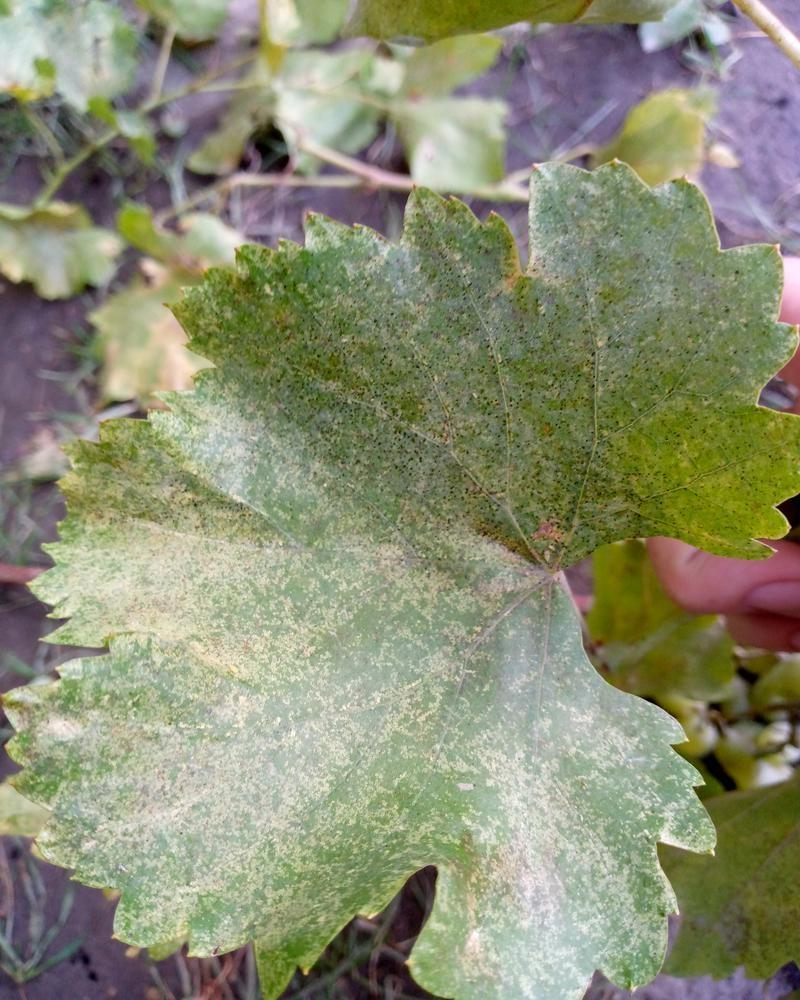Powdery-Mildew: (468, 709, 652, 916), (141, 711, 340, 884), (66, 522, 274, 673), (187, 394, 290, 502), (512, 925, 575, 988)
